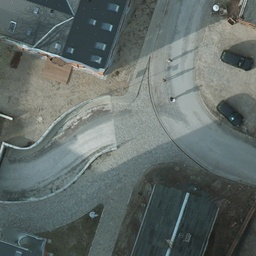car: (217, 52, 253, 71), (218, 103, 244, 126)
